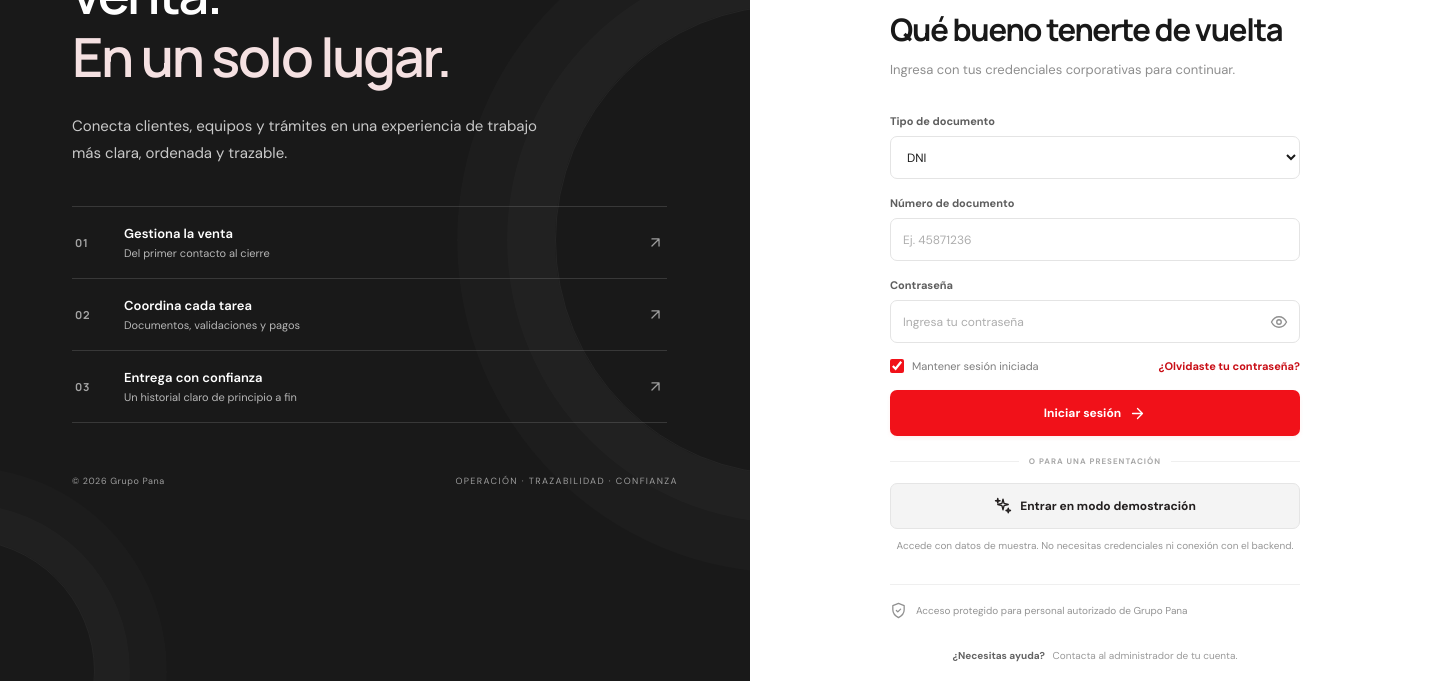
demo login lands on the sales workspace
(page scrolled)
Click the button "Entrar en modo demostración": [1095, 506] box [890,483,1300,529]
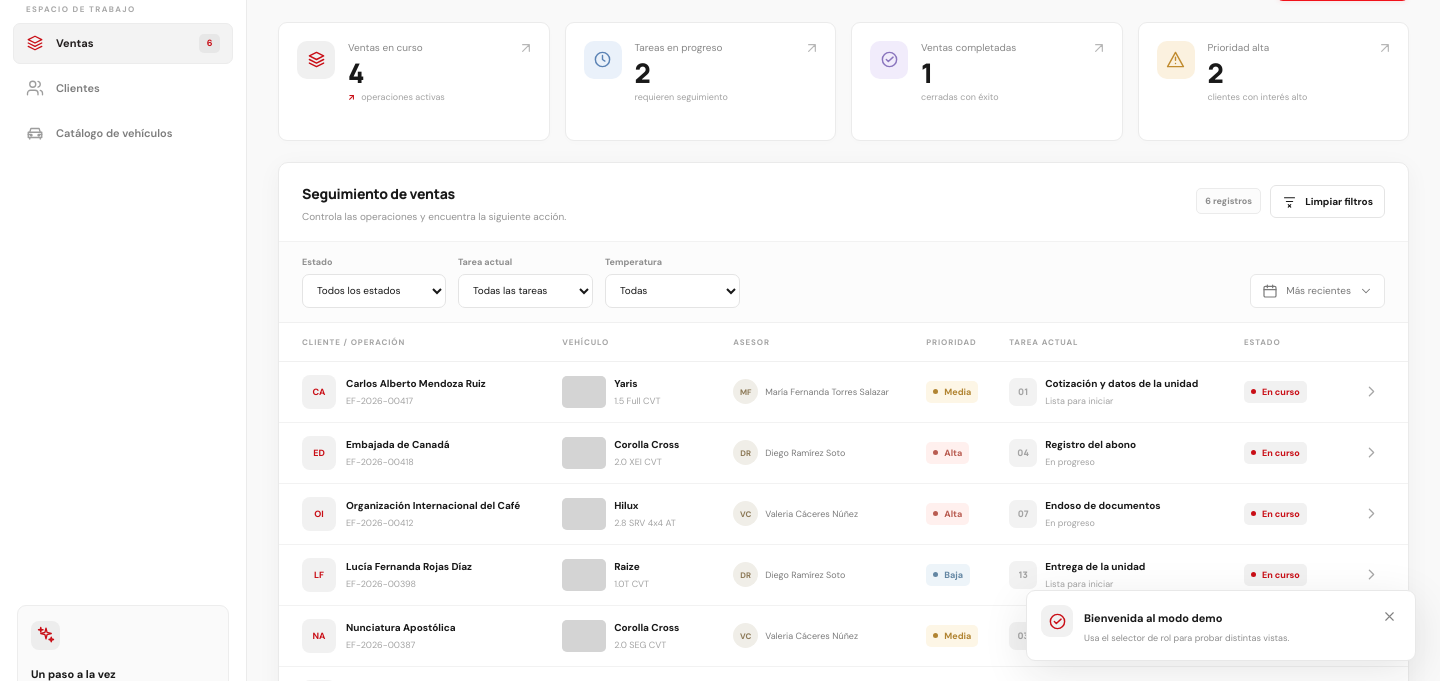
Now the text "EF-2026-00417" is shown, box [346,395,413,407]
